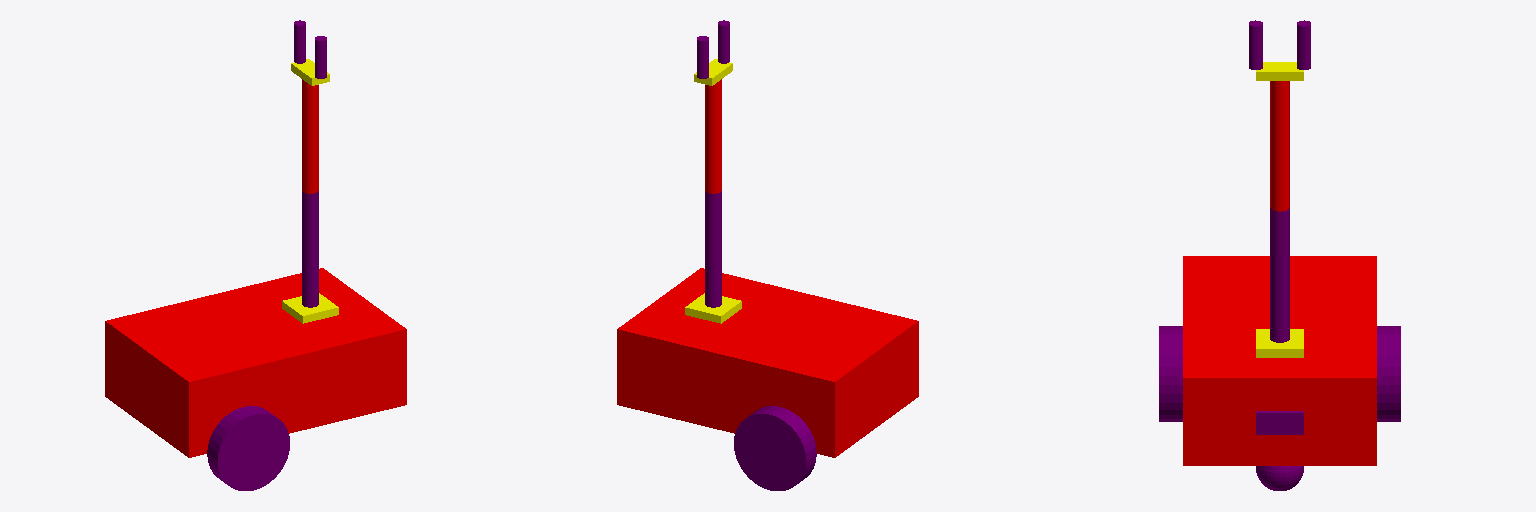
URDF robot description (my_robot):
<?xml version="1.0" ?>
<!-- =================================================================================== -->
<!-- |    This document was autogenerated by xacro from /home/vincent-pc/ros2_jazzy/src/my_robot_description/urdf/my_robot.urdf.xacro | -->
<!-- |    EDITING THIS FILE BY HAND IS NOT RECOMMENDED                                 | -->
<!-- =================================================================================== -->
<robot name="my_robot">
  <material name="purple">
    <color rgba="0.5 0 0.5 1"/>
  </material>
  <material name="red">
    <color rgba="1 0 0 1"/>
  </material>
  <material name="orange">
    <color rgba="1.0 0.5 0 1"/>
  </material>
  <material name="yellow">
    <color rgba="1.0 1.0 0 1"/>
  </material>
  <link name="base_footprint"/>
  <link name="base_link">
    <visual>
      <geometry>
        <box size="0.6 0.4 0.2"/>
      </geometry>
      <origin rpy="0 0 0" xyz="0 0 0.1"/>
      <material name="red"/>
    </visual>
    <collision>
      <geometry>
        <box size="0.6 0.4 0.2"/>
      </geometry>
      <origin rpy="0 0 0" xyz="0 0 0.1"/>
    </collision>
    <inertial>
      <mass value="5.0"/>
      <origin rpy="0 0 0" xyz="0 0 0.1"/>
      <inertia ixx="0.08333333333333336" ixy="0" ixz="0" iyy="0.16666666666666669" iyz="0" izz="0.21666666666666667"/>
    </inertial>
  </link>
  <link name="right_wheel_link">
    <visual>
      <geometry>
        <cylinder length="0.05" radius="0.1"/>
      </geometry>
      <origin rpy="1.5707963267948966 0 0" xyz="0 0 0"/>
      <material name="purple"/>
    </visual>
    <collision>
      <geometry>
        <sphere radius="0.1"/>
      </geometry>
      <origin rpy="0 0 0" xyz="0 0 0"/>
    </collision>
    <inertial>
      <mass value="1.0"/>
      <origin rpy="1.5707963267948966 0 0" xyz="0 0 0"/>
      <inertia ixx="0.002708333333333334" ixy="0" ixz="0" iyy="0.002708333333333334" iyz="0" izz="0.0008333333333333334"/>
    </inertial>
  </link>
  <link name="left_wheel_link">
    <visual>
      <geometry>
        <cylinder length="0.05" radius="0.1"/>
      </geometry>
      <origin rpy="1.5707963267948966 0 0" xyz="0 0 0"/>
      <material name="purple"/>
    </visual>
    <collision>
      <geometry>
        <sphere radius="0.1"/>
      </geometry>
      <origin rpy="0 0 0" xyz="0 0 0"/>
    </collision>
    <inertial>
      <mass value="1.0"/>
      <origin rpy="1.5707963267948966 0 0" xyz="0 0 0"/>
      <inertia ixx="0.002708333333333334" ixy="0" ixz="0" iyy="0.002708333333333334" iyz="0" izz="0.0008333333333333334"/>
    </inertial>
  </link>
  <link name="caster_wheel_link">
    <visual>
      <geometry>
        <sphere radius="0.05"/>
      </geometry>
      <origin rpy="0 0 0" xyz="0 0 0"/>
      <material name="purple"/>
    </visual>
    <collision>
      <geometry>
        <sphere radius="0.05"/>
      </geometry>
      <origin rpy="0 0 0" xyz="0 0 0"/>
    </collision>
    <inertial>
      <mass value="0.5"/>
      <origin rpy="0 0 0" xyz="0 0 0"/>
      <inertia ixx="0.0005000000000000001" ixy="0" ixz="0" iyy="0.0005000000000000001" iyz="0" izz="0.0005000000000000001"/>
    </inertial>
  </link>
  <joint name="base_joint" type="fixed">
    <parent link="base_footprint"/>
    <child link="base_link"/>
    <origin rpy="0 0 0" xyz="0 0 0.1"/>
  </joint>
  <joint name="base_right_wheel_joint" type="continuous">
    <parent link="base_link"/>
    <child link="right_wheel_link"/>
    <origin rpy="0 0 0" xyz="-0.15 -0.225 0"/>
    <axis xyz="0 1 0"/>
  </joint>
  <joint name="base_left_wheel_joint" type="continuous">
    <parent link="base_link"/>
    <child link="left_wheel_link"/>
    <origin rpy="0 0 0" xyz="-0.15 0.225 0"/>
    <axis xyz="0 1 0"/>
  </joint>
  <joint name="base_caster_wheel_joint" type="fixed">
    <parent link="base_link"/>
    <child link="caster_wheel_link"/>
    <origin rpy="0 0 0" xyz="0.19999999999999998 0 -0.05"/>
  </joint>
  <gazebo reference="caster_wheel_link">
    <mu1 value="0.1"/>
    <mu2 value="0.1"/>
  </gazebo>
  <gazebo>
    <plugin filename="gz-sim-diff-drive-system" name="gz::sim::systems::DiffDrive">
      <left_joint>base_left_wheel_joint</left_joint>
      <right_joint>base_right_wheel_joint</right_joint>
      <wheel_separation>0.45</wheel_separation>
      <wheel_radius>0.1</wheel_radius>
      <frame_id>odom</frame_id>
      <child_frame_id>base_footprint</child_frame_id>
    </plugin>
  </gazebo>
  <gazebo>
    <plugin filename="gz-sim-joint-state-publisher-system" name="gz::sim::systems::JointStatePublisher">
      <joint_name>base_left_wheel_joint</joint_name>
      <joint_name>base_right_wheel_joint</joint_name>
    </plugin>
  </gazebo>
  <link name="arm_base_link">
    <visual>
      <geometry>
        <box size="0.1 0.1 0.02"/>
      </geometry>
      <origin rpy="0 0 0" xyz="0 0 0.01"/>
      <material name="yellow"/>
    </visual>
    <collision>
      <geometry>
        <box size="0.1 0.1 0.02"/>
      </geometry>
      <origin rpy="0 0 0" xyz="0 0 0.01"/>
    </collision>
    <inertial>
      <mass value="0.5"/>
      <origin rpy="0 0 0" xyz="0 0 0.01"/>
      <inertia ixx="0.00043333333333333337" ixy="0" ixz="0" iyy="0.00043333333333333337" iyz="0" izz="0.0008333333333333335"/>
    </inertial>
  </link>
  <link name="first_arm_link">
    <visual>
      <geometry>
        <cylinder length="0.3" radius="0.02"/>
      </geometry>
      <origin rpy="0 0 0" xyz="0 0 0.15"/>
      <material name="purple"/>
    </visual>
    <collision>
      <geometry>
        <cylinder length="0.3" radius="0.02"/>
      </geometry>
      <origin rpy="0 0 0" xyz="0 0 0.15"/>
    </collision>
    <inertial>
      <mass value="0.3"/>
      <origin rpy="0 0 0" xyz="0 0 0.15"/>
      <inertia ixx="0.00228" ixy="0" ixz="0" iyy="0.00228" iyz="0" izz="1e-05"/>
    </inertial>
  </link>
  <link name="hand_arm_link">
    <visual>
      <geometry>
        <cylinder length="0.3" radius="0.02"/>
      </geometry>
      <origin rpy="0 0 0" xyz="0 0 0.15"/>
      <material name="red"/>
    </visual>
    <collision>
      <geometry>
        <cylinder length="0.3" radius="0.02"/>
      </geometry>
      <origin rpy="0 0 0" xyz="0 0 0.15"/>
    </collision>
    <inertial>
      <mass value="0.3"/>
      <origin rpy="0 0 0" xyz="0 0 0.15"/>
      <inertia ixx="0.00228" ixy="0" ixz="0" iyy="0.00228" iyz="0" izz="1e-05"/>
    </inertial>
  </link>
  <link name="gripper_base_link">
    <visual>
      <geometry>
        <box size="0.05 0.1 0.02"/>
      </geometry>
      <origin rpy="0 0 0" xyz="0 0 0.01"/>
      <material name="yellow"/>
    </visual>
    <collision>
      <geometry>
        <box size="0.05 0.1 0.02"/>
      </geometry>
      <origin rpy="0 0 0" xyz="0 0 0.01"/>
    </collision>
    <inertial>
      <mass value="0.5"/>
      <origin rpy="0 0 0" xyz="0 0 0.01"/>
      <inertia ixx="0.00043333333333333337" ixy="0" ixz="0" iyy="0.00012083333333333336" iyz="0" izz="0.0005208333333333334"/>
    </inertial>
  </link>
  <link name="left_gripper_link">
    <visual>
      <geometry>
        <cylinder length="0.1" radius="0.015"/>
      </geometry>
      <origin rpy="0 0 0" xyz="0 0 0.05"/>
      <material name="purple"/>
    </visual>
    <collision>
      <geometry>
        <cylinder length="0.1" radius="0.015"/>
      </geometry>
      <origin rpy="0 0 0" xyz="0 0 0.05"/>
    </collision>
    <inertial>
      <mass value="0.3"/>
      <origin rpy="0 0 0" xyz="0 0 0.05"/>
      <inertia ixx="0.000266875" ixy="0" ixz="0" iyy="0.000266875" iyz="0" izz="5.6249999999999995e-06"/>
    </inertial>
  </link>
  <link name="right_gripper_link">
    <visual>
      <geometry>
        <cylinder length="0.1" radius="0.015"/>
      </geometry>
      <origin rpy="0 0 0" xyz="0 0 0.05"/>
      <material name="purple"/>
    </visual>
    <collision>
      <geometry>
        <cylinder length="0.1" radius="0.015"/>
      </geometry>
      <origin rpy="0 0 0" xyz="0 0 0.05"/>
    </collision>
    <inertial>
      <mass value="0.3"/>
      <origin rpy="0 0 0" xyz="0 0 0.05"/>
      <inertia ixx="0.000266875" ixy="0" ixz="0" iyy="0.000266875" iyz="0" izz="5.6249999999999995e-06"/>
    </inertial>
  </link>
  <joint name="first_joint" type="revolute">
    <parent link="arm_base_link"/>
    <child link="first_arm_link"/>
    <origin rpy="0 0 0" xyz="0 0 0.02"/>
    <axis xyz="0 1 0"/>
    <limit effort="100" lower="0" upper="1.5707963267948966" velocity="100"/>
    <dynamics damping="0.3" friction="0.3"/>
  </joint>
  <joint name="second_joint" type="revolute">
    <parent link="first_arm_link"/>
    <child link="hand_arm_link"/>
    <origin rpy="0 0 0" xyz="0 0 0.3"/>
    <axis xyz="0 1 0"/>
    <limit effort="100" lower="0.0" upper="1.5707963267948966" velocity="100"/>
    <dynamics damping="0.3" friction="0.3"/>
  </joint>
  <joint name="gripper_base_joint" type="fixed">
    <parent link="hand_arm_link"/>
    <child link="gripper_base_link"/>
    <origin rpy="0.0 0.0 0.0" xyz="0.0 0.0 0.3"/>
  </joint>
  <joint name="gripper_left_joint" type="revolute">
    <parent link="gripper_base_link"/>
    <child link="left_gripper_link"/>
    <origin rpy="0 0 0" xyz="0 -0.05 0.02"/>
    <axis xyz="-1 0 0"/>
    <limit effort="100" lower="0" upper="1.5707963267948966" velocity="100"/>
    <dynamics damping="0.3" friction="0.3"/>
  </joint>
  <joint name="gripper_right_joint" type="revolute">
    <parent link="gripper_base_link"/>
    <child link="right_gripper_link"/>
    <origin rpy="0 0 0" xyz="0 0.05 0.02"/>
    <axis xyz="1 0 0"/>
    <limit effort="100" lower="0" upper="1.5707963267948966" velocity="100"/>
    <dynamics damping="0.3" friction="0.3"/>
  </joint>
  <!-- https://github.com/gazebosim/gz-sim/tree/gz-sim9/src/systems -->
  <gazebo>
    <plugin filename="gz-sim-joint-position-controller-system" name="gz::sim::systems::JointPositionController">
      <joint_name>first_joint</joint_name>
      <p_gain>5.0</p_gain>
    </plugin>
  </gazebo>
  <gazebo>
    <plugin filename="gz-sim-joint-position-controller-system" name="gz::sim::systems::JointPositionController">
      <joint_name>second_joint</joint_name>
      <p_gain>3.0</p_gain>
    </plugin>
  </gazebo>
  <gazebo>
    <plugin filename="gz-sim-joint-position-controller-system" name="gz::sim::systems::JointPositionController">
      <joint_name>gripper_left_joint</joint_name>
      <p_gain>3.0</p_gain>
    </plugin>
  </gazebo>
  <gazebo>
    <plugin filename="gz-sim-joint-position-controller-system" name="gz::sim::systems::JointPositionController">
      <joint_name>gripper_right_joint</joint_name>
      <p_gain>3.0</p_gain>
    </plugin>
  </gazebo>
  <gazebo>
    <plugin filename="gz-sim-joint-state-publisher-system" name="gz::sim::systems::JointStatePublisher">
      <joint_name>first_joint</joint_name>
      <joint_name>second_joint</joint_name>
      <joint_name>gripper_left_joint</joint_name>
      <joint_name>gripper_right_joint</joint_name>
    </plugin>
  </gazebo>
  <link name="camera_link">
    <visual>
      <geometry>
        <box size="0.01 0.1 0.05"/>
      </geometry>
      <material name="purple"/>
    </visual>
    <collision>
      <geometry>
        <box size="0.01 0.1 0.05"/>
      </geometry>
      <origin rpy="0 0 0" xyz="0 0 0.025"/>
    </collision>
    <inertial>
      <mass value="0.1"/>
      <origin rpy="0 0 0" xyz="0 0 0"/>
      <inertia ixx="0.00010416666666666669" ixy="0" ixz="0" iyy="2.166666666666667e-05" iyz="0" izz="8.416666666666668e-05"/>
    </inertial>
  </link>
  <joint name="base_camera_joint" type="fixed">
    <parent link="base_link"/>
    <child link="camera_link"/>
    <origin rpy="0.0 0.0 0.0" xyz="0.305 0.0 0.1"/>
  </joint>
  <link name="camera_link_optical"/>
  <joint name="camera_optical_joint" type="fixed">
    <origin rpy="-1.5707963267948966 0.0 -1.5707963267948966" xyz="0.0 0.0 0.0"/>
    <parent link="camera_link"/>
    <child link="camera_link_optical"/>
  </joint>
  <gazebo reference="camera_link">
    <sensor name="camera" type="camera">
      <camera>
        <horizontal_fov>1.3962634</horizontal_fov>
        <image>
          <width>640</width>
          <height>480</height>
          <format>R8G8B8</format>
        </image>
        <clip>
          <near>0.1</near>
          <far>15</far>
        </clip>
        <noise>
          <type>gaussian</type>
          <mean>0.0</mean>
          <stddev>0.007</stddev>
        </noise>
        <optical_frame_id>camera_link_optical</optical_frame_id>
        <camera_info_topic>camera/camera_info</camera_info_topic>
      </camera>
      <always_on>1</always_on>
      <update_rate>20</update_rate>
      <topic>camera/image_raw</topic>
    </sensor>
  </gazebo>
  <joint name="mobile_base_arm_joint" type="fixed">
    <parent link="base_link"/>
    <child link="arm_base_link"/>
    <origin rpy="0.0 0.0 0.0" xyz="0.15 0.0 0.2"/>
  </joint>
</robot>

--- What the picture shows (computed from the rendered views, not written in the file) ---
3 views of the same robot in one strip: view 1: azimuth 30°, elevation 25°; view 2: azimuth 150°, elevation 25°; view 3: azimuth 270°, elevation 25° (orthographic).
Robot: my_robot — 13 links, 12 joints (4 revolute, 2 continuous, 6 fixed); root link base_footprint; default pose: every joint at zero.
Links seen in each view (by area): view 1: base_link, right_wheel_link, first_arm_link, hand_arm_link, arm_base_link; view 2: base_link, left_wheel_link, first_arm_link, hand_arm_link, arm_base_link; view 3: base_link, first_arm_link, hand_arm_link, right_wheel_link, left_wheel_link, camera_link, arm_base_link, caster_wheel_link, gripper_base_link, left_gripper_link, right_gripper_link.
Link boxes in pixels (x1,y1,x2,y2): base_link: [105, 268, 406, 457]; right_wheel_link: [207, 406, 289, 490]; first_arm_link: [302, 191, 318, 307]; hand_arm_link: [302, 79, 318, 193]; arm_base_link: [282, 293, 338, 323]; base_link: [617, 268, 918, 457]; left_wheel_link: [734, 406, 816, 490]; first_arm_link: [705, 191, 721, 307]; hand_arm_link: [705, 79, 721, 193]; arm_base_link: [685, 293, 741, 323]; base_link: [1183, 256, 1376, 465]; first_arm_link: [1270, 208, 1289, 342]; hand_arm_link: [1270, 81, 1289, 211]; right_wheel_link: [1159, 326, 1182, 421]; left_wheel_link: [1377, 326, 1400, 421]; camera_link: [1256, 411, 1303, 434]; arm_base_link: [1256, 329, 1303, 357]; caster_wheel_link: [1256, 466, 1303, 490]; gripper_base_link: [1256, 62, 1303, 80]; left_gripper_link: [1249, 20, 1262, 69]; right_gripper_link: [1297, 20, 1310, 69].
Bounding box of the posed robot: 0.61 × 0.5 × 1.04 m (x, y, z).
Geometry: primitives only (box / cylinder / sphere), no mesh files.
